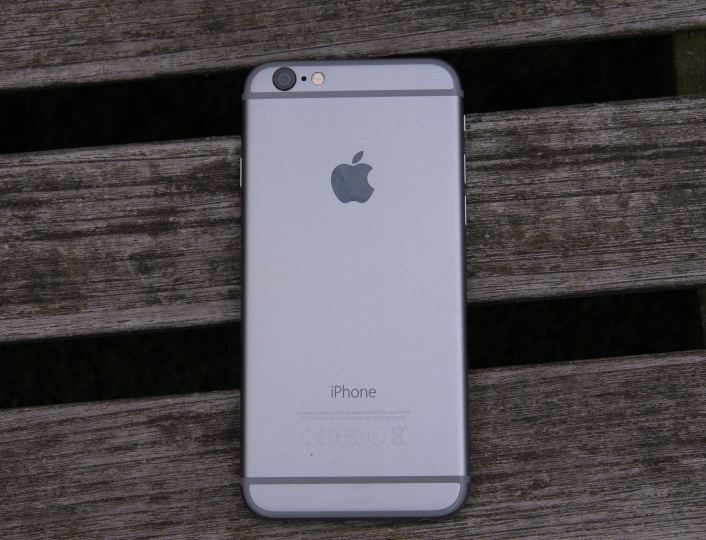apple: (315, 140, 391, 209)
